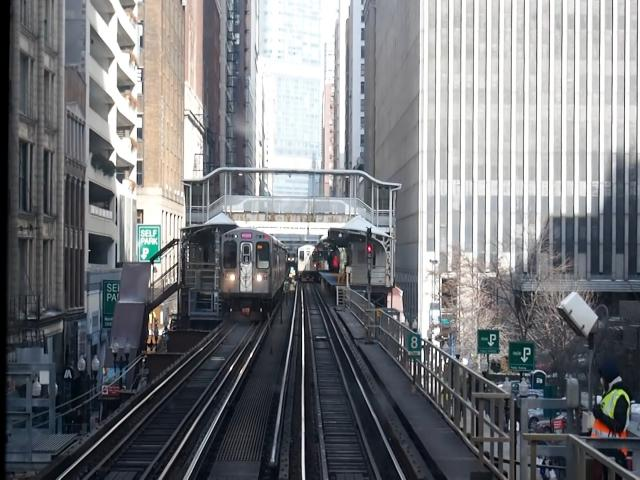signal light: (367, 226, 376, 262)
